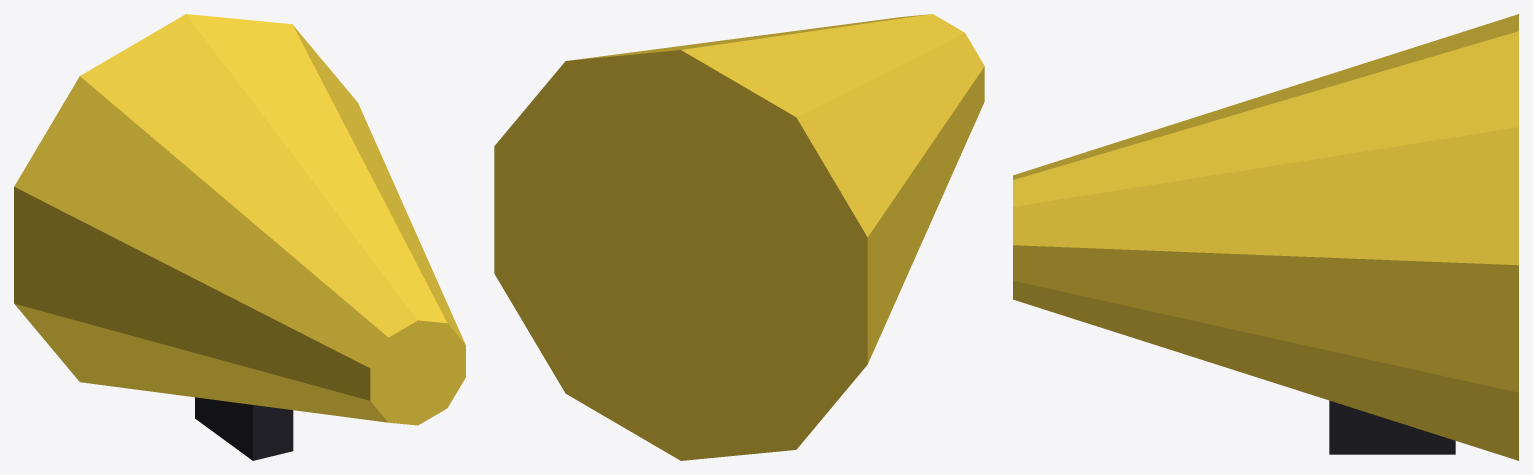
The model's file is megaphone.fbx.
The picture shows the model from 3 angles, left to right: view 1: azimuth 30°, elevation 25°; view 2: azimuth 150°, elevation 25°; view 3: azimuth 270°, elevation 25°; orthographic projection. The views are drawn at different scales.
Visible parts, largest first — view 1: megaphone; view 2: megaphone; view 3: megaphone.
Part boxes in pixels (x1,y1,x2,y2): megaphone: (14, 14, 465, 460); megaphone: (494, 14, 984, 460); megaphone: (1013, 14, 1518, 460).
Bounding box in the file's own units: 0.3424 × 0.36 × 0.4.
